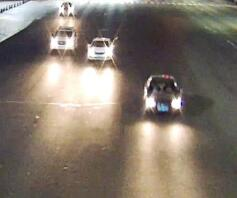car: (143, 70, 184, 119), (82, 32, 117, 64), (47, 24, 76, 51), (58, 1, 75, 16)
